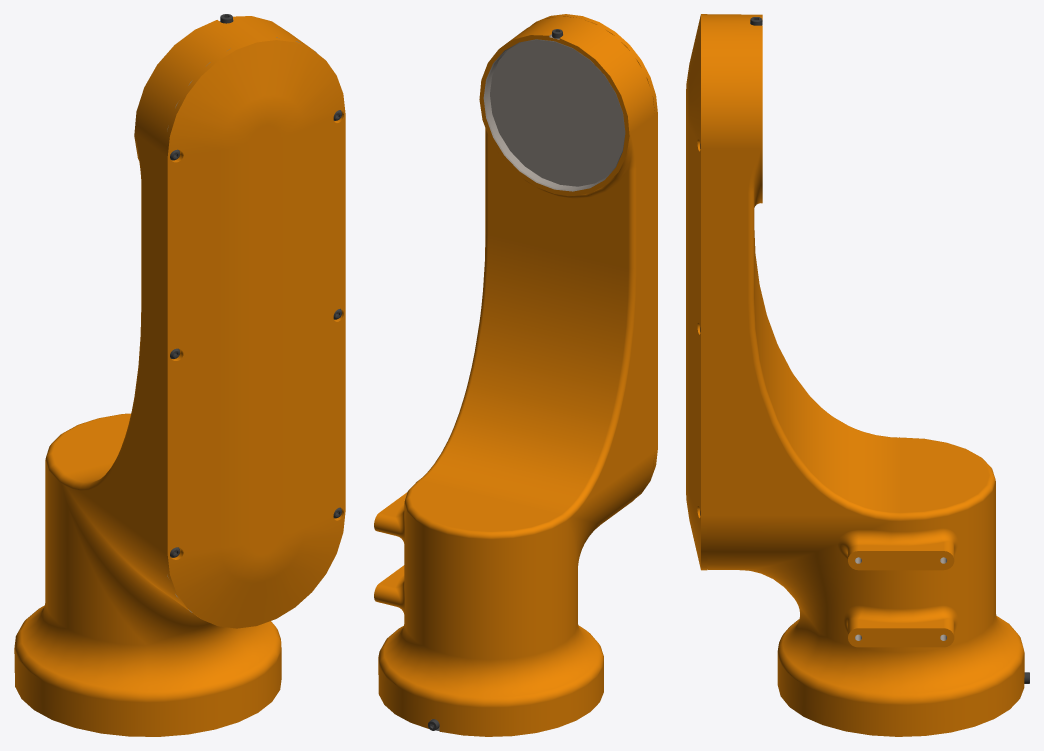
3 views of the same model, side by side, from view 1: azimuth 30°, elevation 25°; view 2: azimuth 150°, elevation 25°; view 3: azimuth 270°, elevation 25° (orthographic). The views are drawn at different scales.
Visible parts, largest first — view 1: NONE, NONE_ncl1_1; view 2: NONE_ncl1_1, NONE; view 3: NONE_ncl1_1, NONE.
Part boxes in pixels (x1,y1,x2,y2): NONE: (164,37,345,628); NONE_ncl1_1: (14,14,341,736); NONE_ncl1_1: (374,16,654,736); NONE: (531,14,657,498); NONE_ncl1_1: (700,14,1029,736); NONE: (686,14,707,570).
Bounding box in the file's own units: 0.116 × 0.1615 × 0.345.
